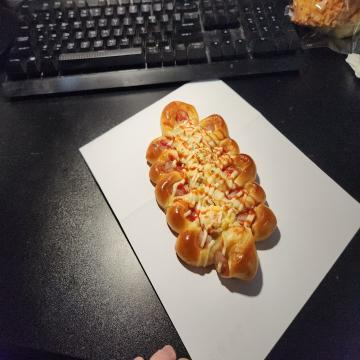pizza_bread: (146, 102, 279, 282)
